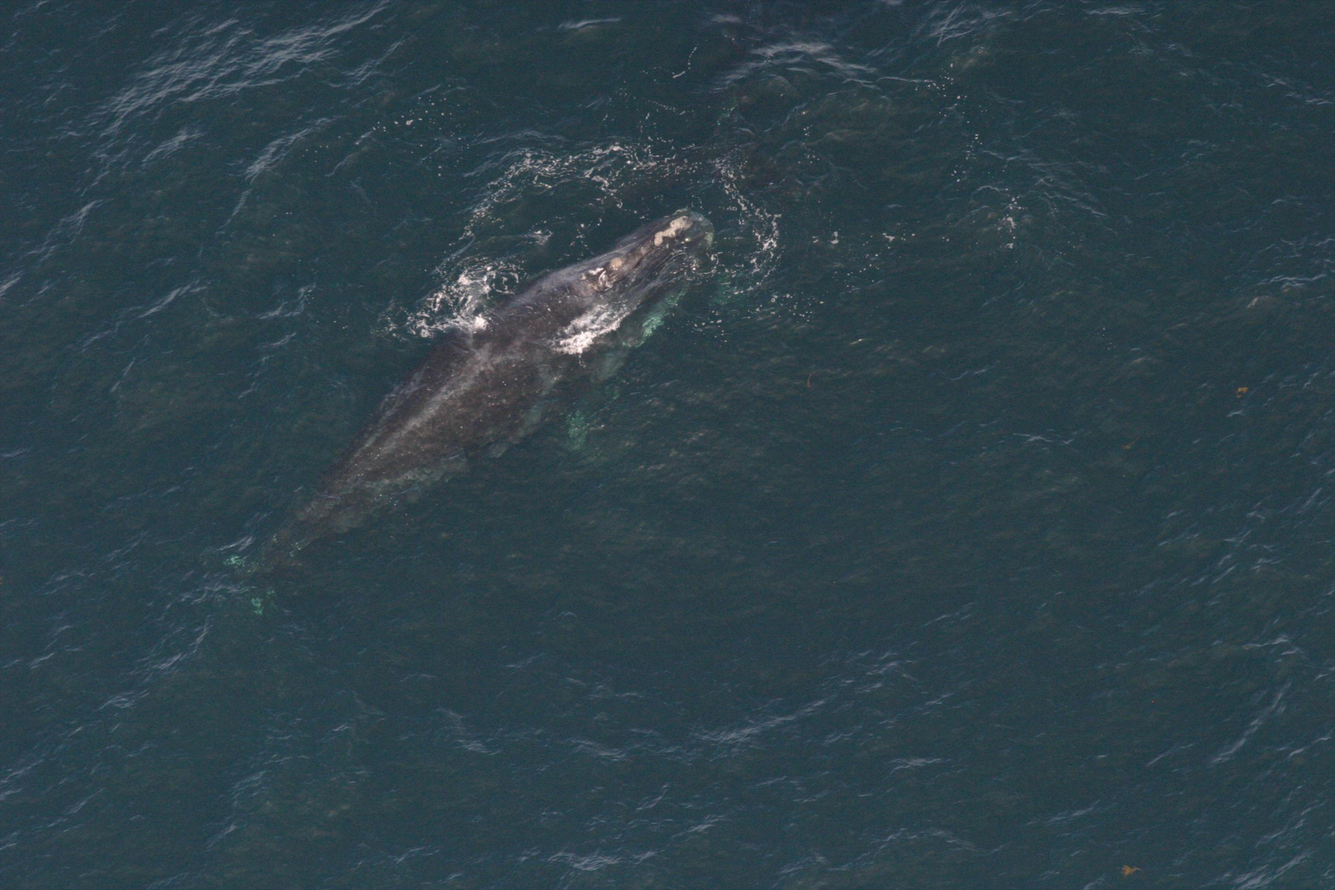whale: (140, 200, 742, 702)
